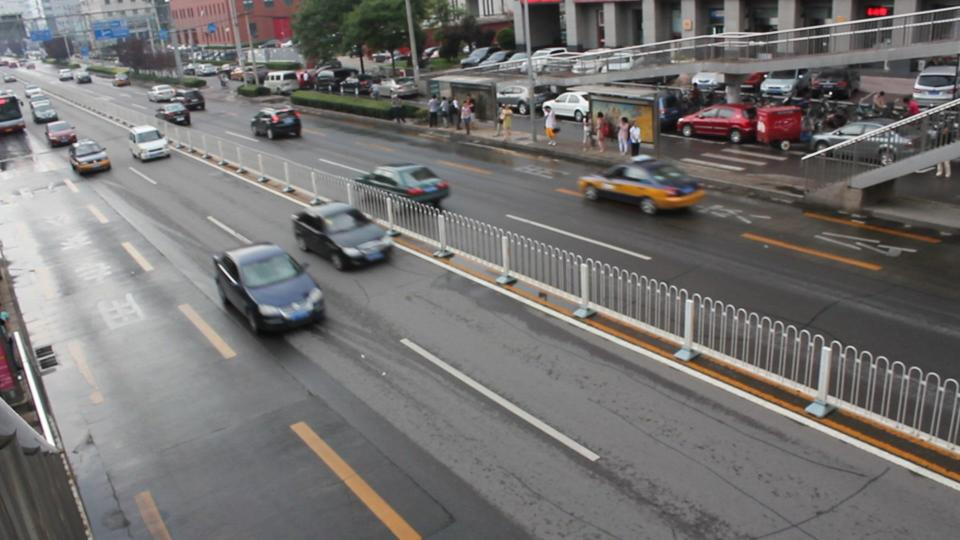Car: (212, 243, 325, 334), (579, 155, 706, 215), (290, 202, 394, 269), (353, 163, 448, 206), (251, 105, 302, 139), (128, 125, 172, 161), (69, 139, 112, 174), (155, 104, 191, 126)
